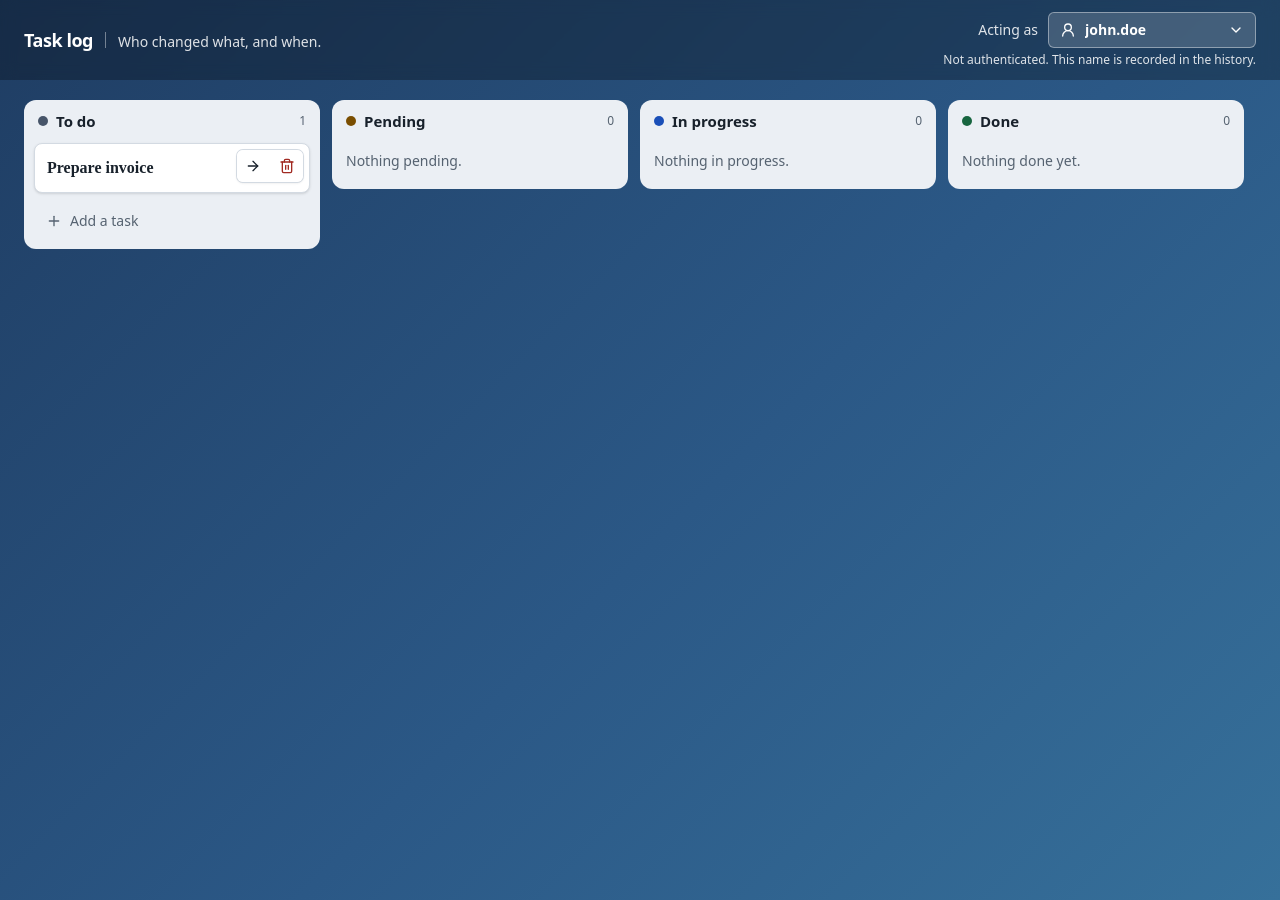
moving a task (button alternative to dragging) › should report a no-op when the server says nothing changed
The width and height of the screenshot is (1280, 900).
Expected: the heading "Prepare invoice" is shown, [47,156,297,180]
Click the button named "Move to Pending".
click(253, 166)  # box [237,150,269,182]
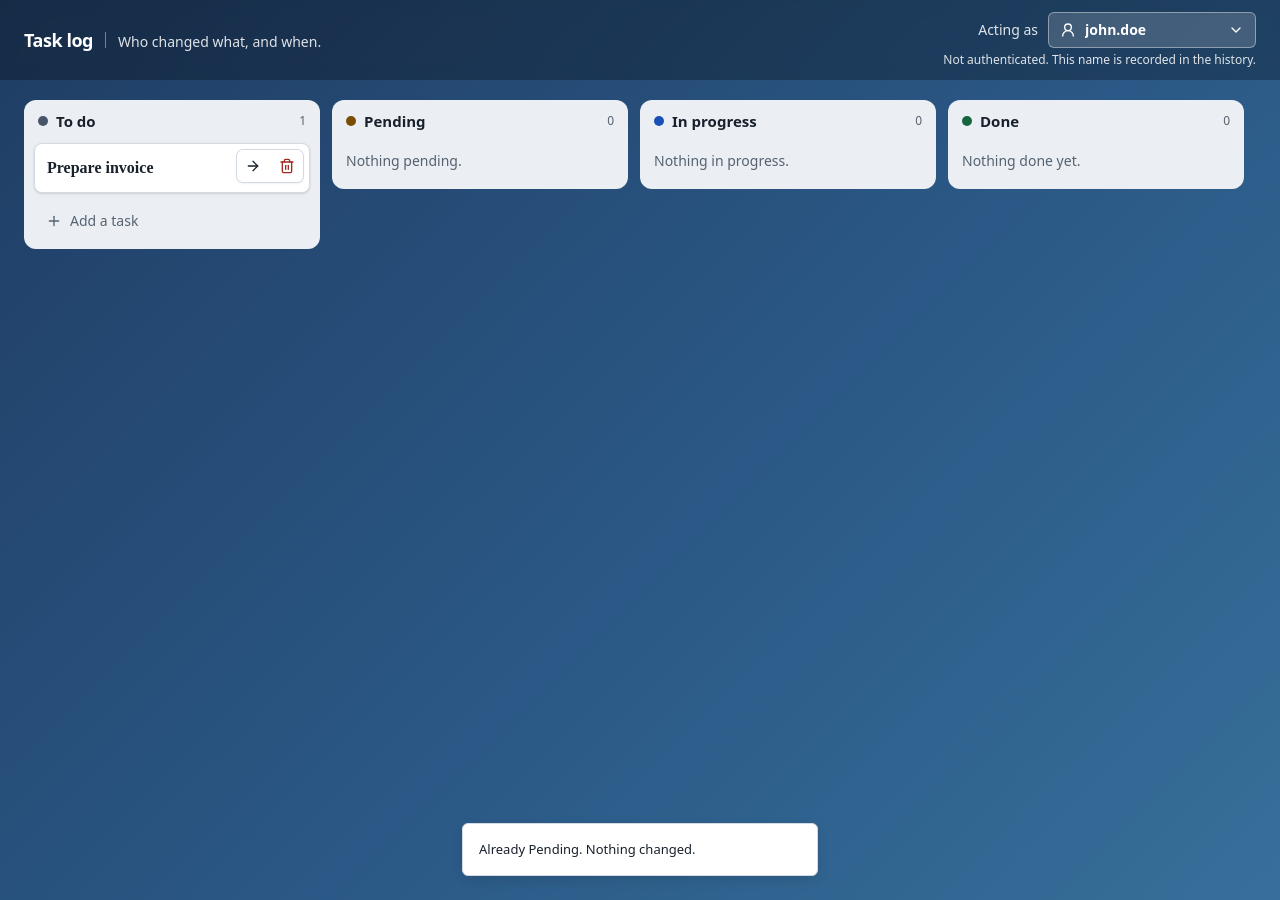
Expected: the text "Already Pending. Nothing changed." is shown, [479,840,696,859]
